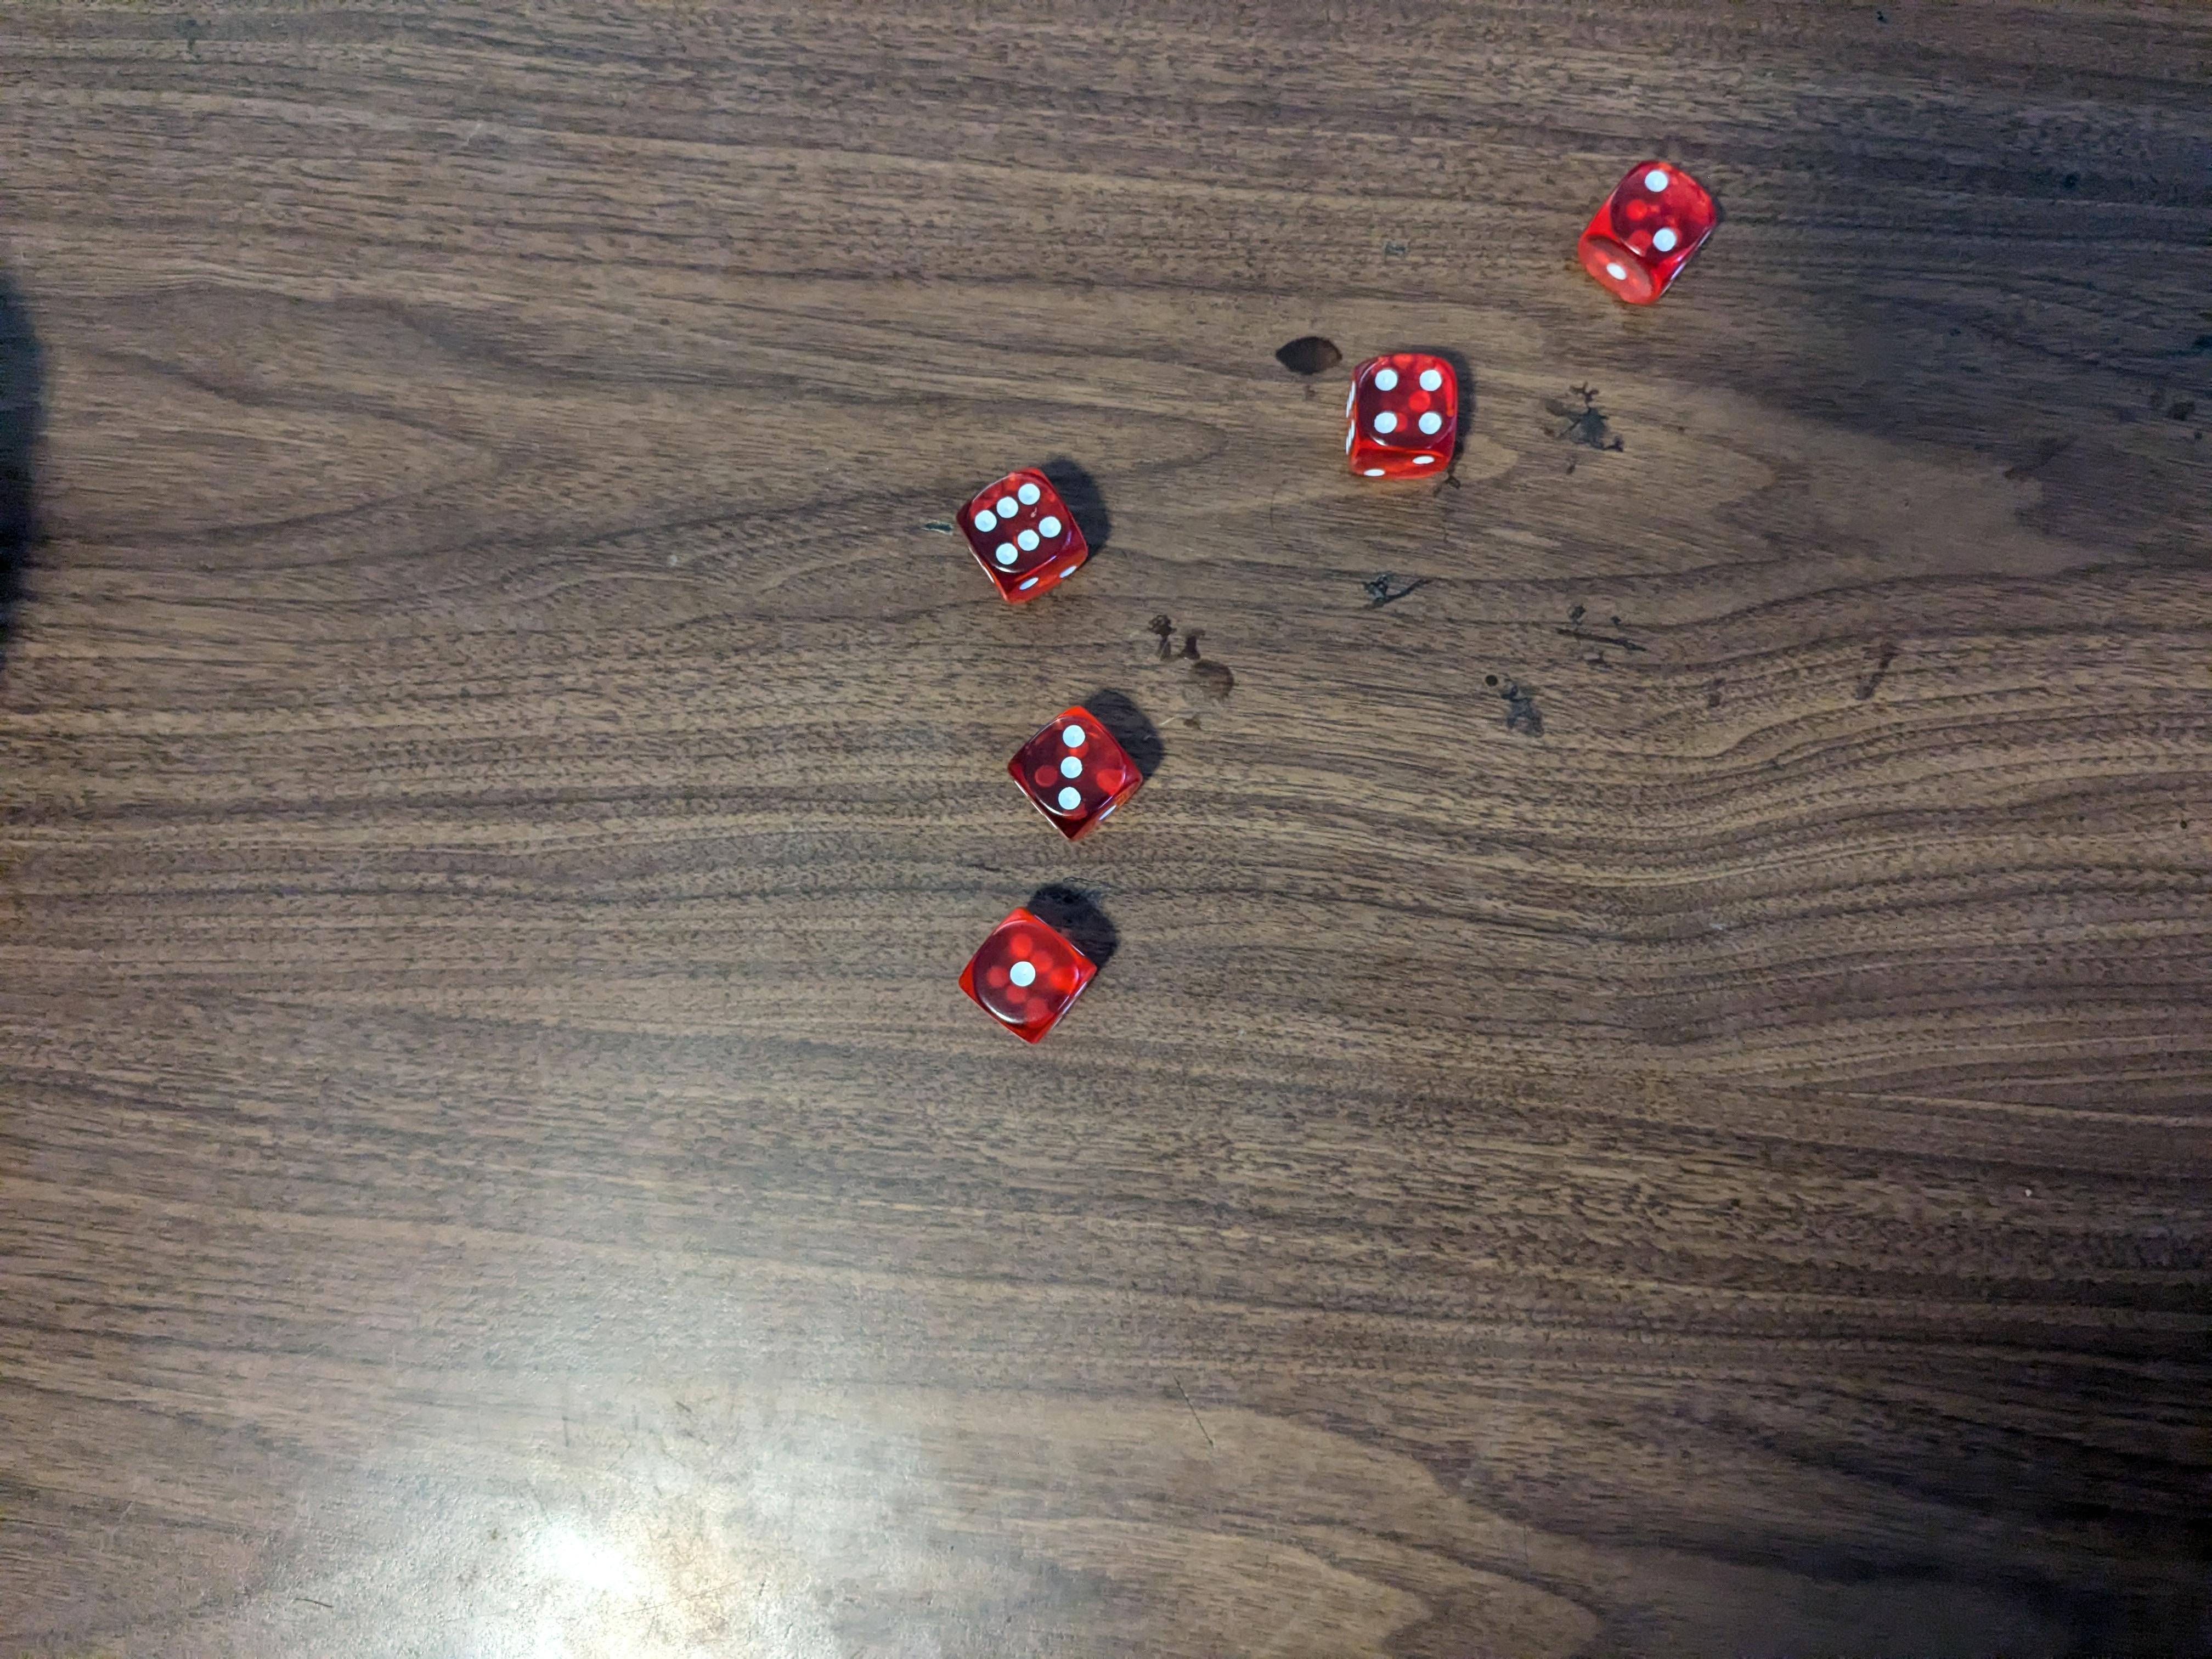four: (1339, 340, 1465, 486)
one: (960, 904, 1097, 1046)
six: (958, 457, 1096, 601)
three: (1012, 701, 1144, 843)
two: (1576, 160, 1730, 300)
